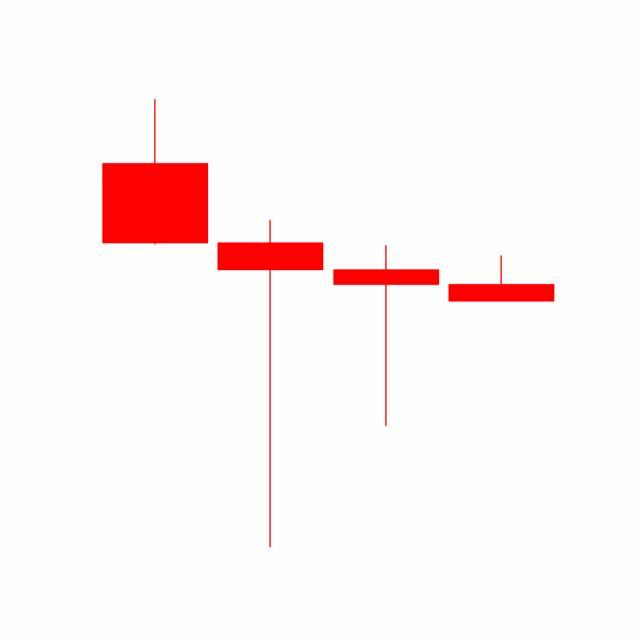Spinning Top: (329, 243, 445, 429)
